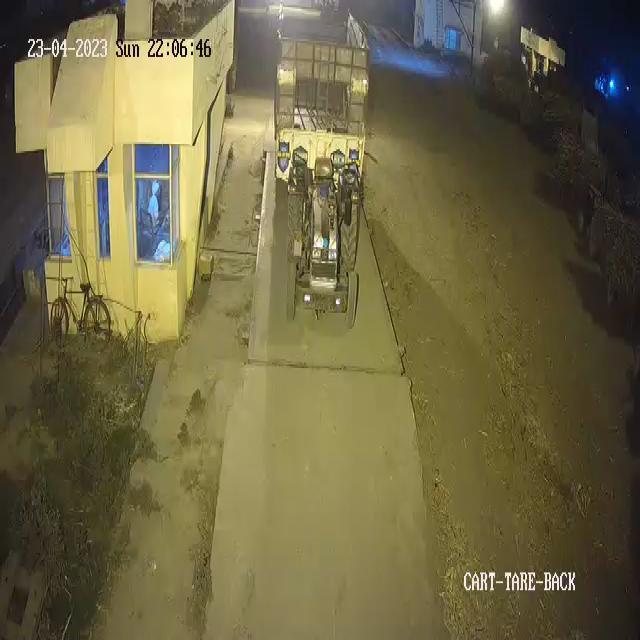Tratores - v5 YOLO V8L 2024-11-13: (284, 160, 359, 330)
